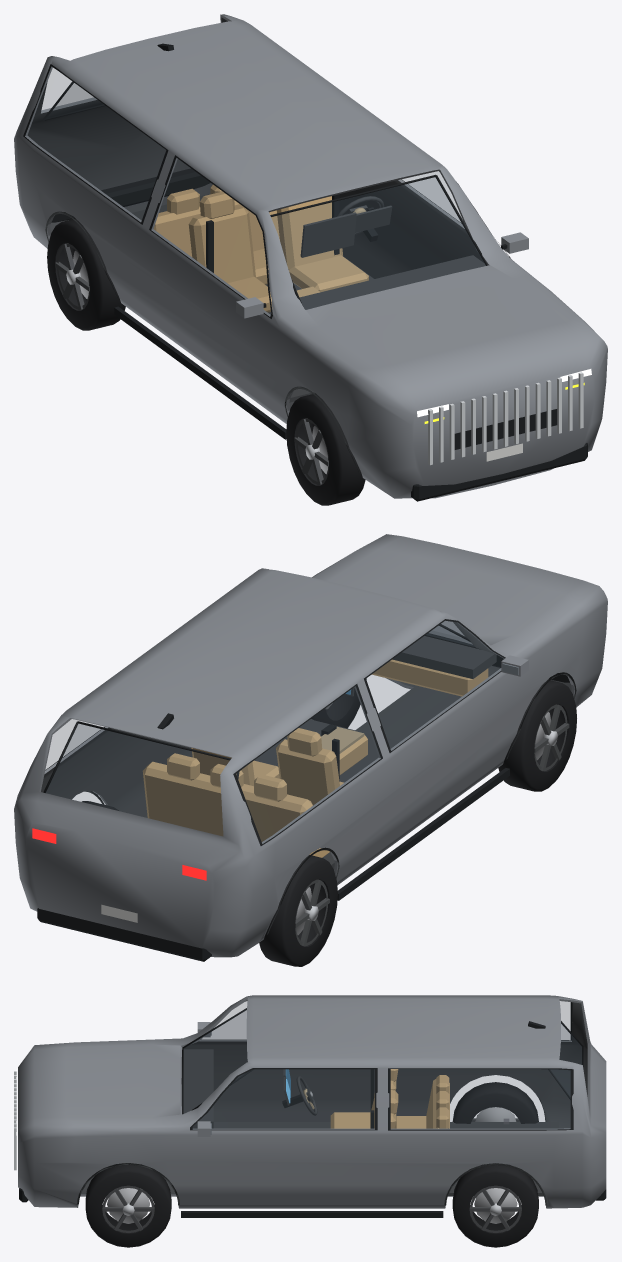
The model's file is fleet-v800.glb.
3 renders of one model, top to bottom at view 1: azimuth 30°, elevation 25°; view 2: azimuth 150°, elevation 25°; view 3: azimuth 270°, elevation 25°, orthographic. The views are drawn at different scales.
Visible parts, largest first — view 1: Body, Surface_CarRoot_Glass, Interior_CarRoot_InteriorLeather, Surface_CarRoot_BlackTrim, Interior_CarRoot_InteriorDark, WheelFrontR_Tyre, Surface_CarRoot_Chrome, WheelRearR_Tyre, InteriorSeatBaseL, Surface_WheelRearR_Rim, Surface_WheelFrontR_Rim, Surface_CarRoot_Paint (+1 smaller); view 2: Body, Surface_CarRoot_Glass, Interior_CarRoot_InteriorLeather, Surface_CarRoot_BlackTrim, WheelRearR_Tyre, WheelFrontR_Tyre, Interior_CarRoot_InteriorDark, Surface_WheelFrontR_Rim, Surface_WheelRearR_Rim, WheelFrontL_Tyre, Interior_CarRoot_InteriorTrim, Surface_CarRoot_Cladding; view 3: Body, Surface_CarRoot_Glass, Surface_CarRoot_BlackTrim, WheelFrontL_Tyre, WheelRearL_Tyre, Interior_CarRoot_InteriorDark, Interior_CarRoot_InteriorLeather, WheelRearR_Tyre, Surface_WheelFrontL_Rim, Surface_WheelRearL_Rim, WheelFrontL_BrakeDisc, WheelRearL_BrakeDisc (+3 smaller).
Boxes of the visible parts, x1=… form: Body: x1=14, y1=14, x2=607, y2=498; Surface_CarRoot_Glass: x1=25, y1=67, x2=485, y2=315; Interior_CarRoot_InteriorLeather: x1=153, y1=184, x2=342, y2=312; Surface_CarRoot_BlackTrim: x1=23, y1=43, x2=587, y2=501; Interior_CarRoot_InteriorDark: x1=132, y1=194, x2=485, y2=402; WheelFrontR_Tyre: x1=286, y1=393, x2=365, y2=505; Surface_CarRoot_Chrome: x1=428, y1=372, x2=583, y2=465; WheelRearR_Tyre: x1=47, y1=218, x2=125, y2=330; InteriorSeatBaseL: x1=288, y1=255, x2=368, y2=291; Surface_WheelRearR_Rim: x1=55, y1=243, x2=89, y2=309; Surface_WheelFrontR_Rim: x1=294, y1=418, x2=328, y2=484; Surface_CarRoot_Paint: x1=236, y1=232, x2=528, y2=318; Body: x1=14, y1=534, x2=607, y2=957; Surface_CarRoot_Glass: x1=45, y1=621, x2=503, y2=843; Interior_CarRoot_InteriorLeather: x1=142, y1=659, x2=488, y2=857; Surface_CarRoot_BlackTrim: x1=37, y1=619, x2=569, y2=961; WheelRearR_Tyre: x1=259, y1=855, x2=337, y2=966; WheelFrontR_Tyre: x1=498, y1=679, x2=576, y2=791; Interior_CarRoot_InteriorDark: x1=145, y1=636, x2=496, y2=867; Surface_WheelFrontR_Rim: x1=534, y1=704, x2=569, y2=771; Surface_WheelRearR_Rim: x1=295, y1=879, x2=329, y2=946; WheelFrontL_Tyre: x1=311, y1=678, x2=366, y2=728; Interior_CarRoot_InteriorTrim: x1=321, y1=726, x2=364, y2=753; Surface_CarRoot_Cladding: x1=84, y1=672, x2=576, y2=934; Body: x1=18, y1=995, x2=606, y2=1208; Surface_CarRoot_Glass: x1=184, y1=1001, x2=581, y2=1129; Surface_CarRoot_BlackTrim: x1=19, y1=1002, x2=606, y2=1217; WheelFrontL_Tyre: x1=85, y1=1163, x2=171, y2=1247; WheelRearL_Tyre: x1=452, y1=1163, x2=538, y2=1247; Interior_CarRoot_InteriorDark: x1=181, y1=1049, x2=558, y2=1196; Interior_CarRoot_InteriorLeather: x1=330, y1=1069, x2=449, y2=1128; WheelRearR_Tyre: x1=452, y1=1082, x2=538, y2=1123; Surface_WheelFrontL_Rim: x1=102, y1=1185, x2=154, y2=1232; Surface_WheelRearL_Rim: x1=469, y1=1185, x2=521, y2=1232; WheelFrontL_BrakeDisc: x1=107, y1=1188, x2=149, y2=1223; WheelRearL_BrakeDisc: x1=474, y1=1188, x2=517, y2=1223.
Bounding box in the file's own units: 2.36 × 1.87 × 5.55.
